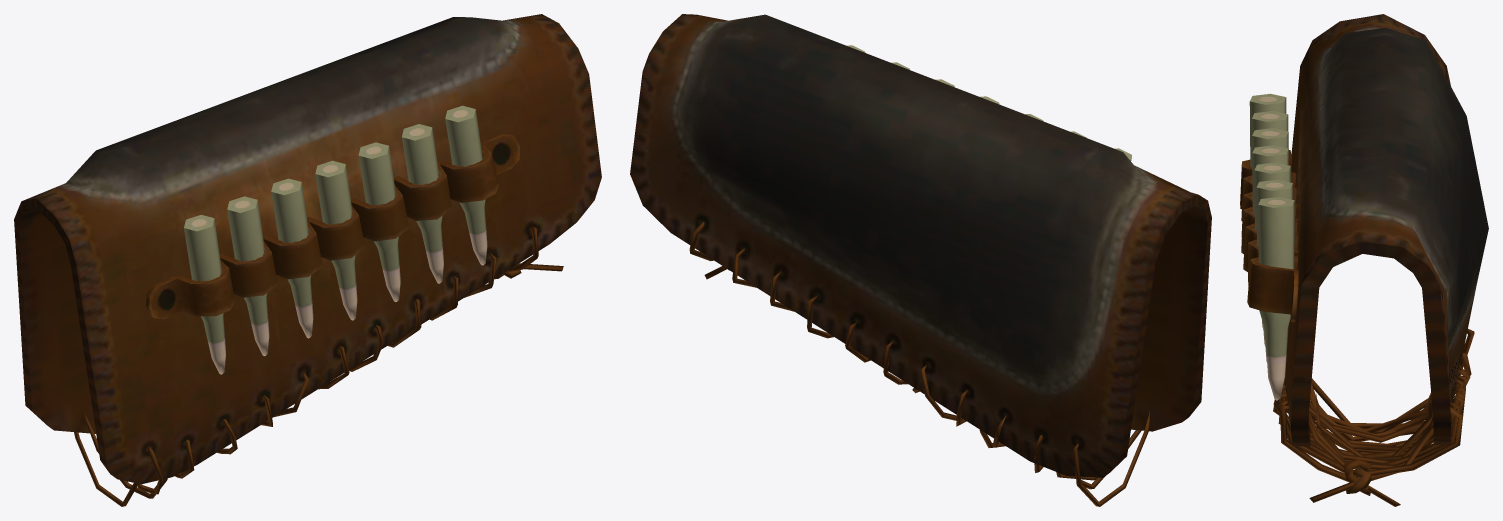
File: ST_BLS_K98K.FBX
3 renders of one model, left to right at view 1: azimuth 30°, elevation 25°; view 2: azimuth 150°, elevation 25°; view 3: azimuth 270°, elevation 25°, orthographic. The views are drawn at different scales.
Parts seen in each view (by area): view 1: ST_BLS_K98K; view 2: ST_BLS_K98K; view 3: ST_BLS_K98K.
Part boxes in pixels (x1,y1,x2,y2): ST_BLS_K98K: (14, 14, 601, 506); ST_BLS_K98K: (630, 14, 1211, 506); ST_BLS_K98K: (1240, 14, 1488, 506).
Bounding box in the file's own units: 21.34 × 15.07 × 7.4.
Materials: 1 (1 with a texture image).
